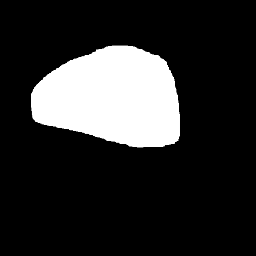mass: (25, 43, 184, 175)
